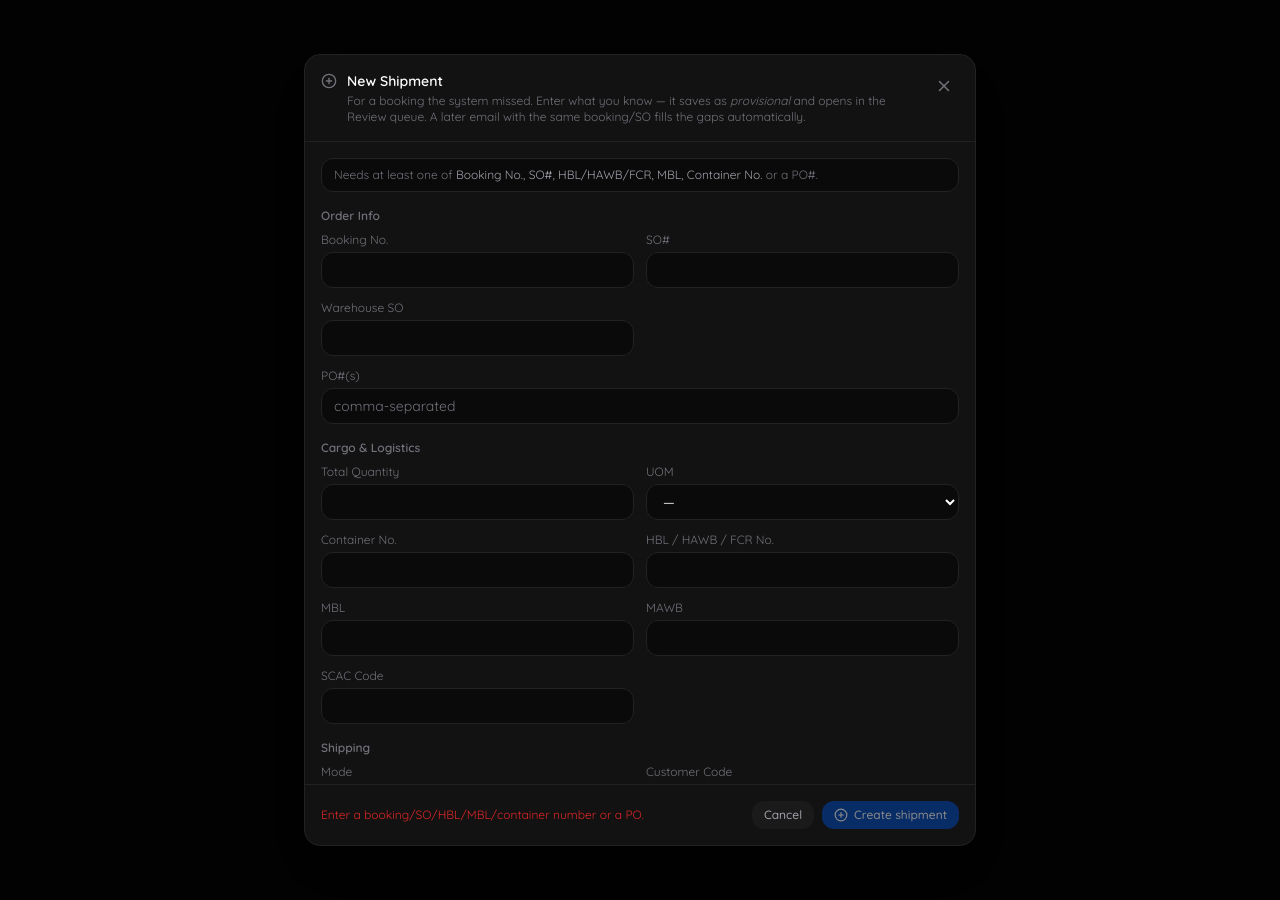
NewShipmentModal — the same fields, editors and rules as the shipment detail page › still refuses a shipment with no identity and no PO
Expected: the button "Create shipment" is disabled, x1=822 y1=801 x2=959 y2=829
Type "PO-1" into the field labelled "PO#(s)".
click(640, 406); type("PO-1")  # box x1=321 y1=388 x2=959 y2=424
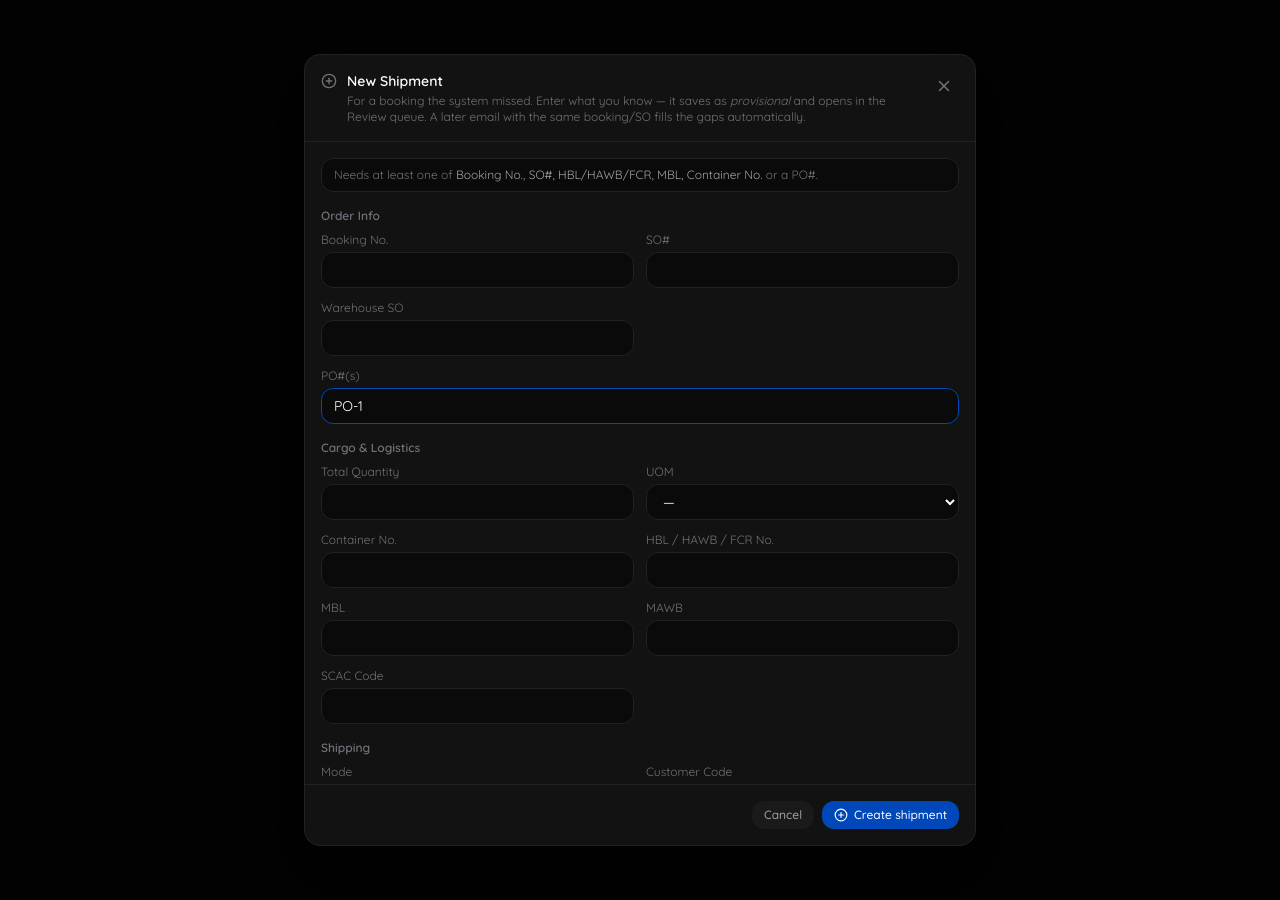
Result: the button "Create shipment" is enabled at x1=822 y1=801 x2=959 y2=829
